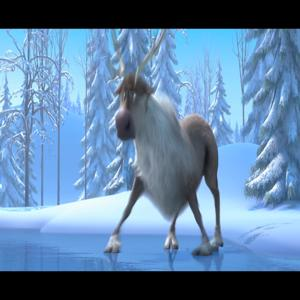sven: (104, 35, 229, 250)
